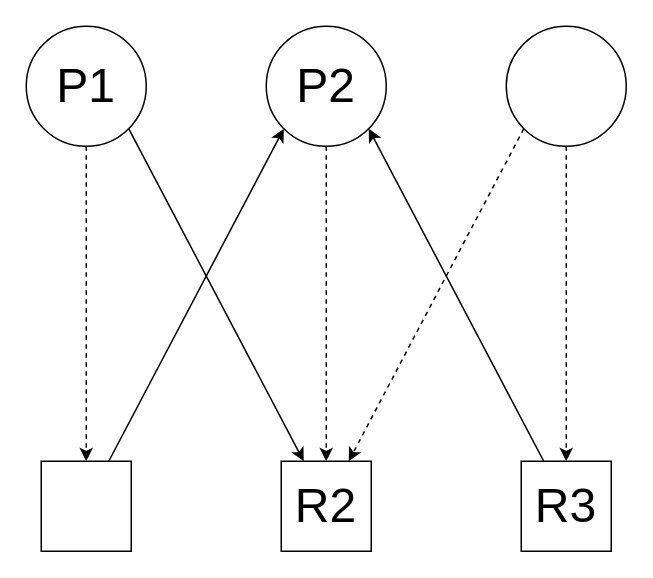
The diagram is 653 pixels wide and 578 high, and some of its shapes have lost their labels. The box of each missing label's shape, as (x1, y1, x2, y2) in pixels:
P3: (505, 25, 626, 146)
R1: (40, 460, 131, 551)
